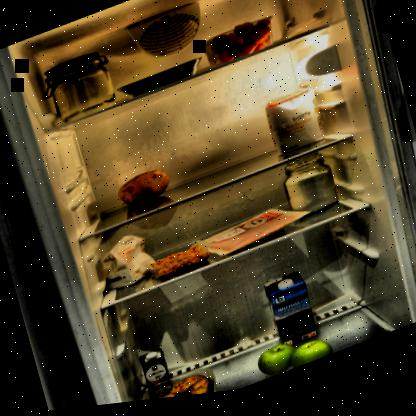apple: (252, 328, 340, 386)
heavy_cream: (138, 349, 174, 402)
milk: (260, 273, 324, 360)
potato: (132, 366, 218, 403)
shrimp: (152, 243, 212, 284)
strawberries: (198, 17, 279, 76)
sweet_potato: (112, 163, 173, 218)
